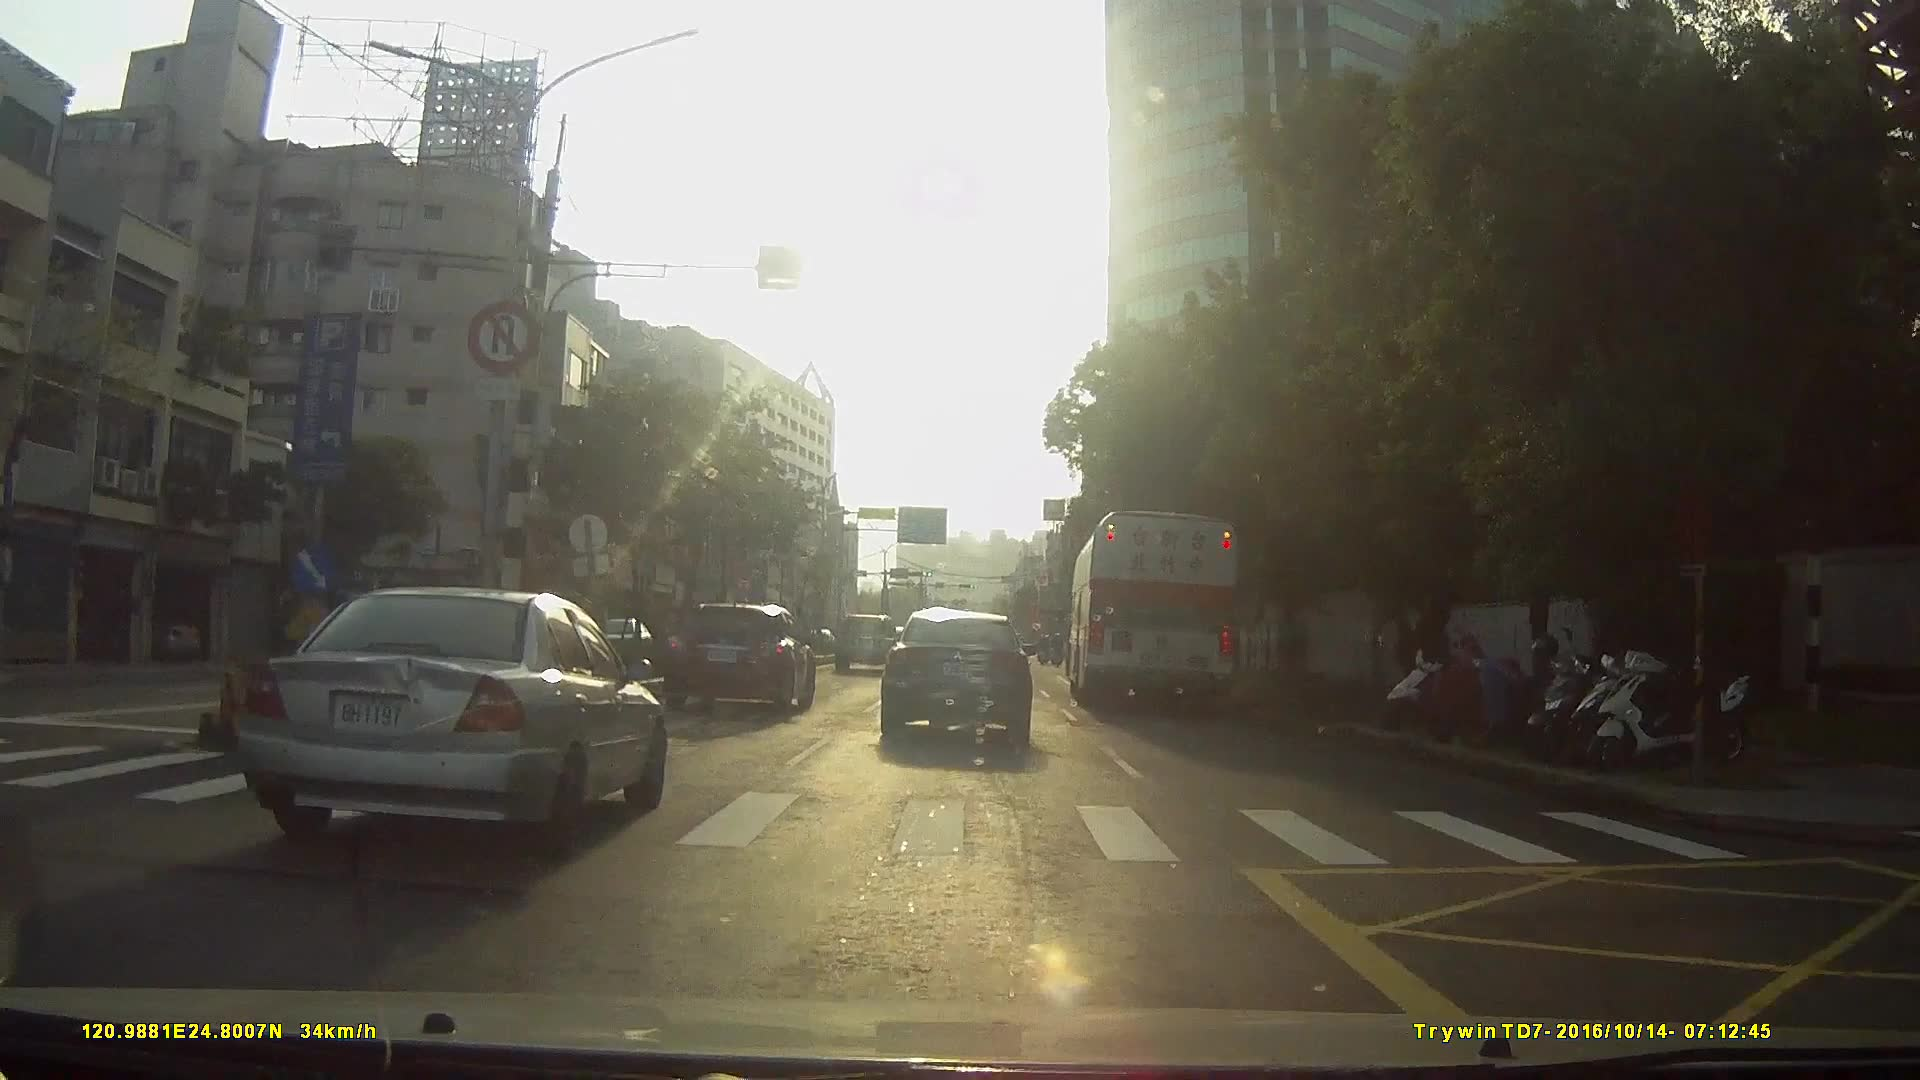vehicle: (228, 583, 662, 857), (1067, 506, 1242, 713), (880, 611, 1034, 752), (665, 603, 818, 721), (832, 611, 899, 673)
